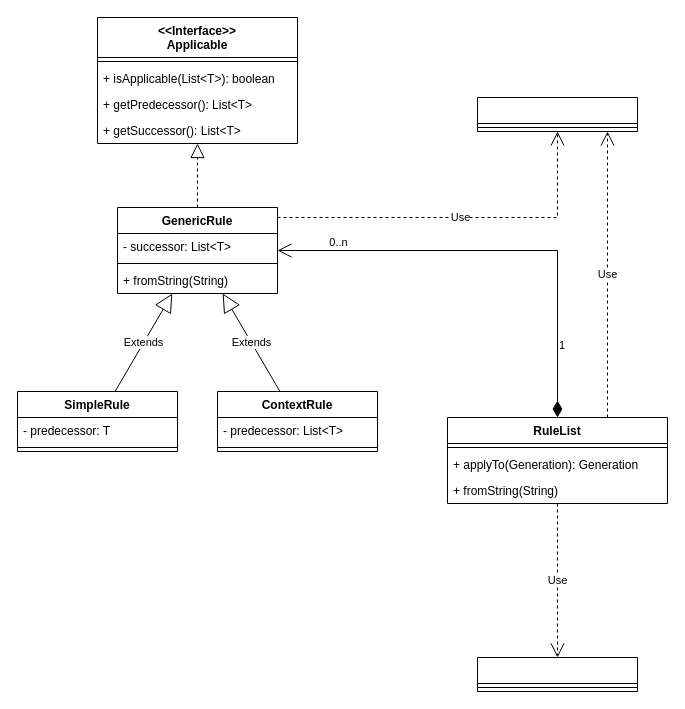
This 685x709 diagram has some shape labels left out. The shapes that lost their labels are listed below. From the top down, each one's centre as x and y in pixels, then its label:
(557,114): AlphabetParser
(557,674): Generation
